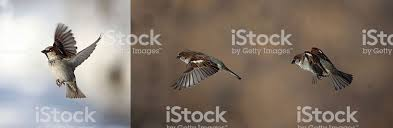hsparrow: (33, 20, 107, 102), (171, 44, 245, 103), (285, 44, 360, 94)
